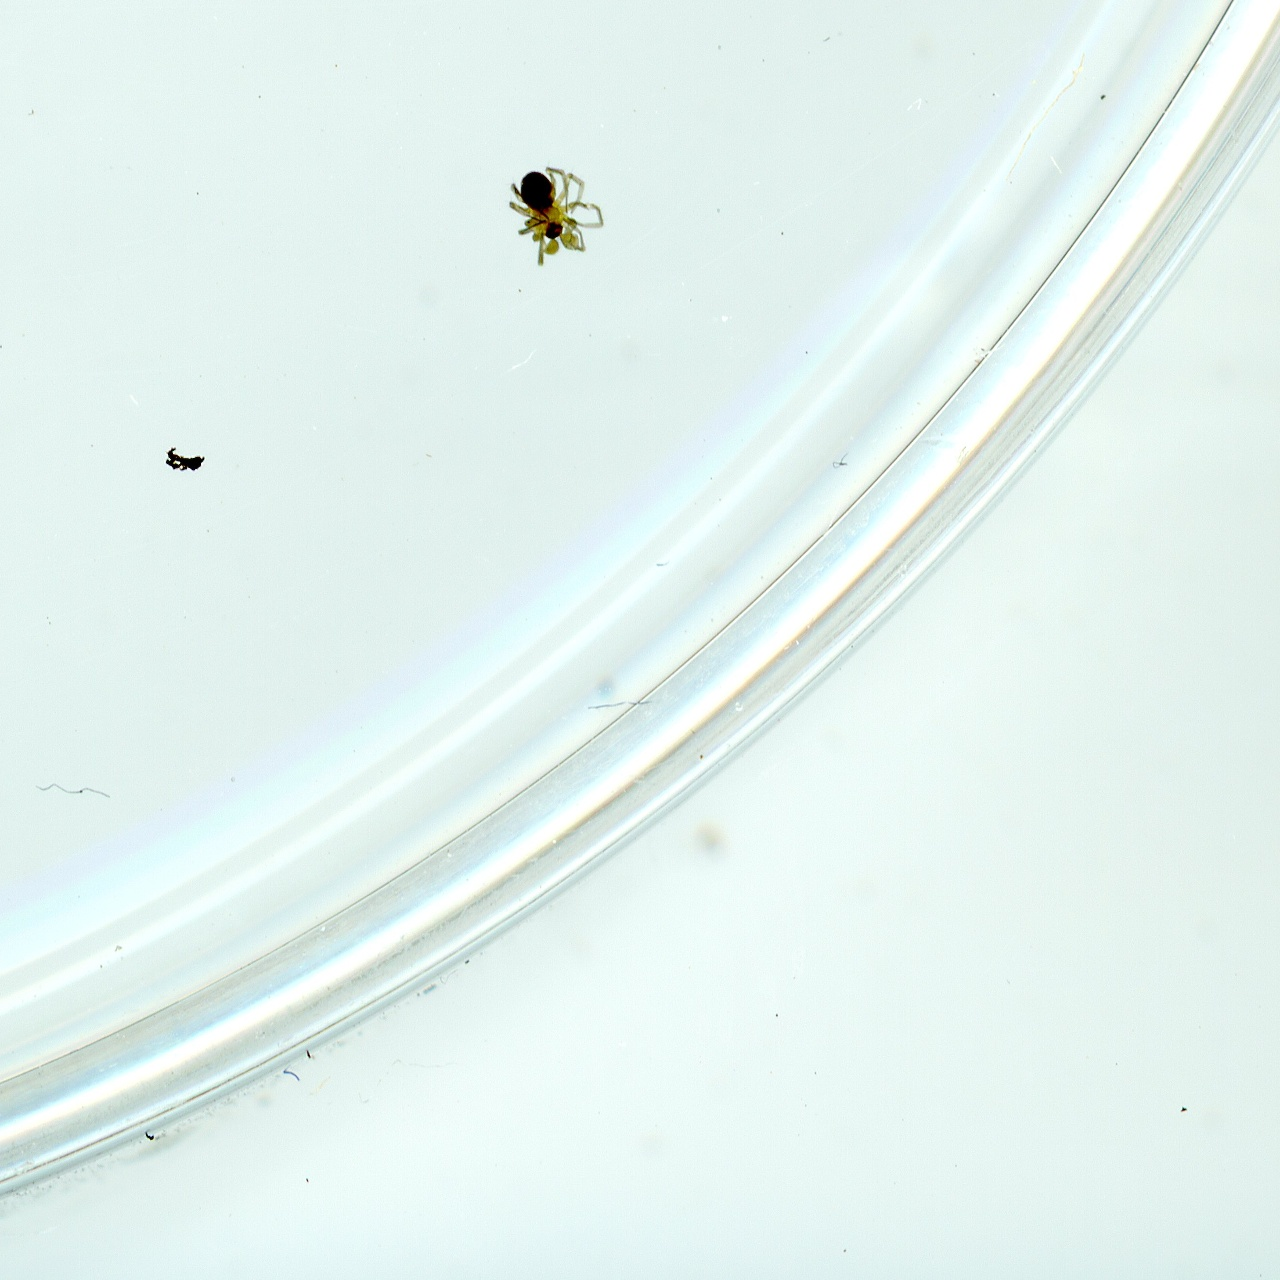arthropod: (466, 150, 614, 269)
